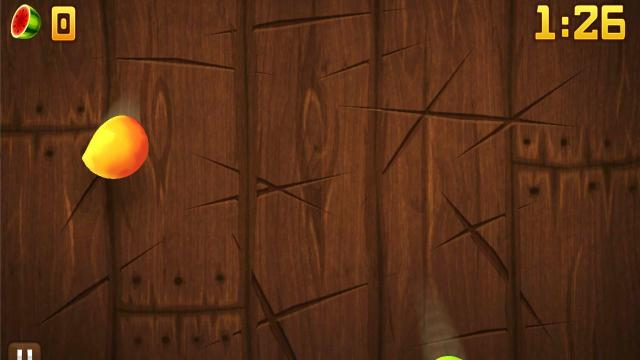fruit: (81, 114, 150, 180), (436, 356, 462, 360)
ignore: (9, 3, 43, 41)
